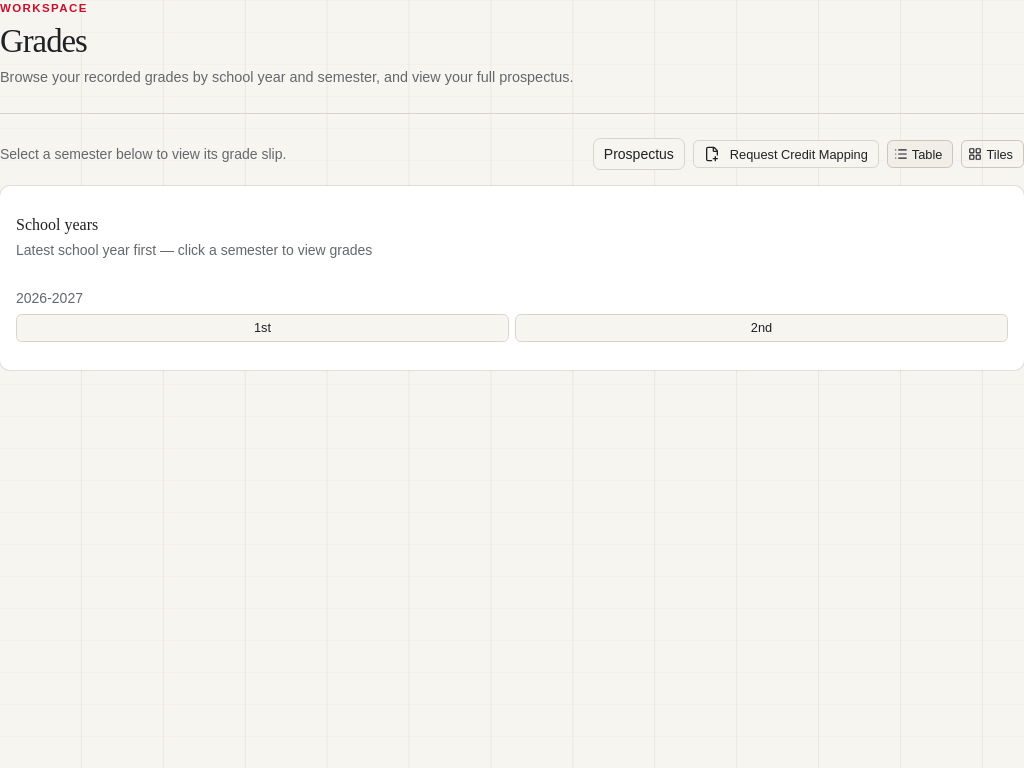
Test: StudentGradesWorkspace › opens the full prospectus in a dialog
Click the button "Prospectus". click: (639, 154)
box: left=593, top=138, right=685, bottom=170
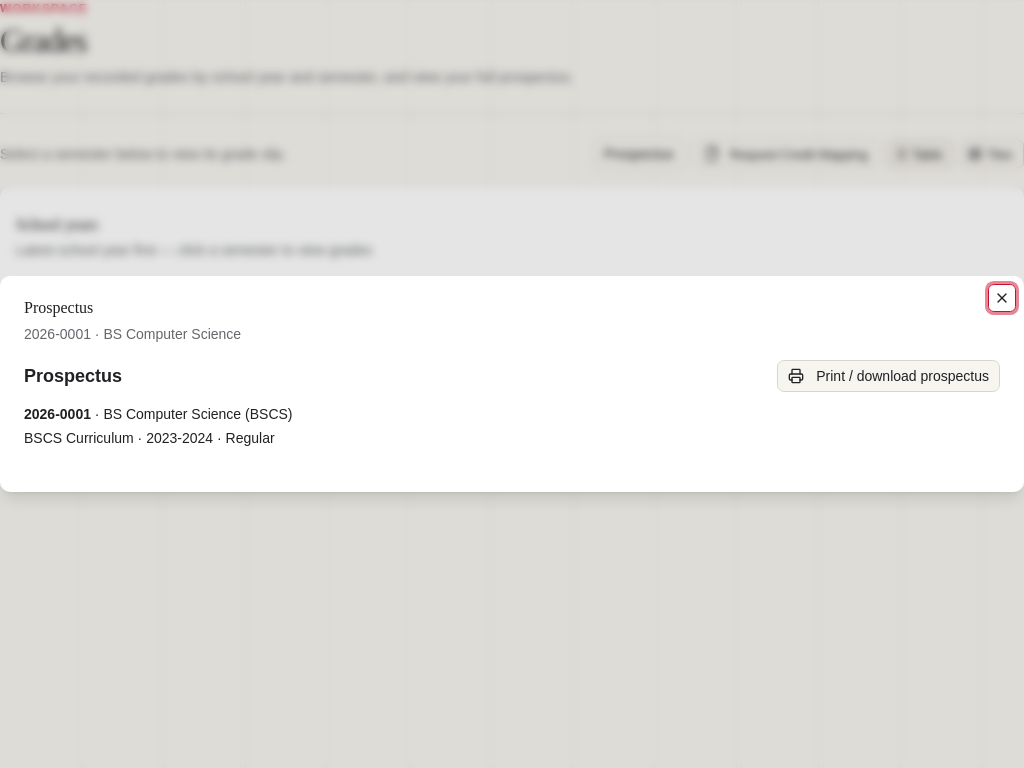
Check: the text "BSCS Curriculum · 2023-2024 · Regular" is shown, box left=24, top=430, right=275, bottom=446
